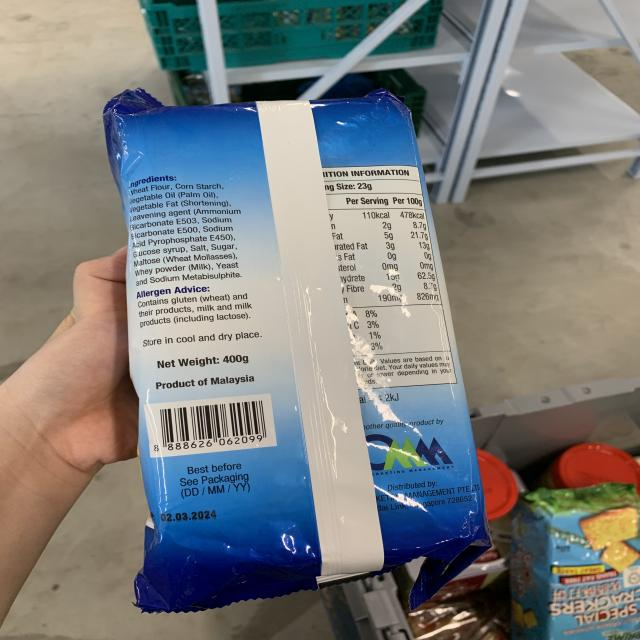object_name: (121, 99, 483, 569)
